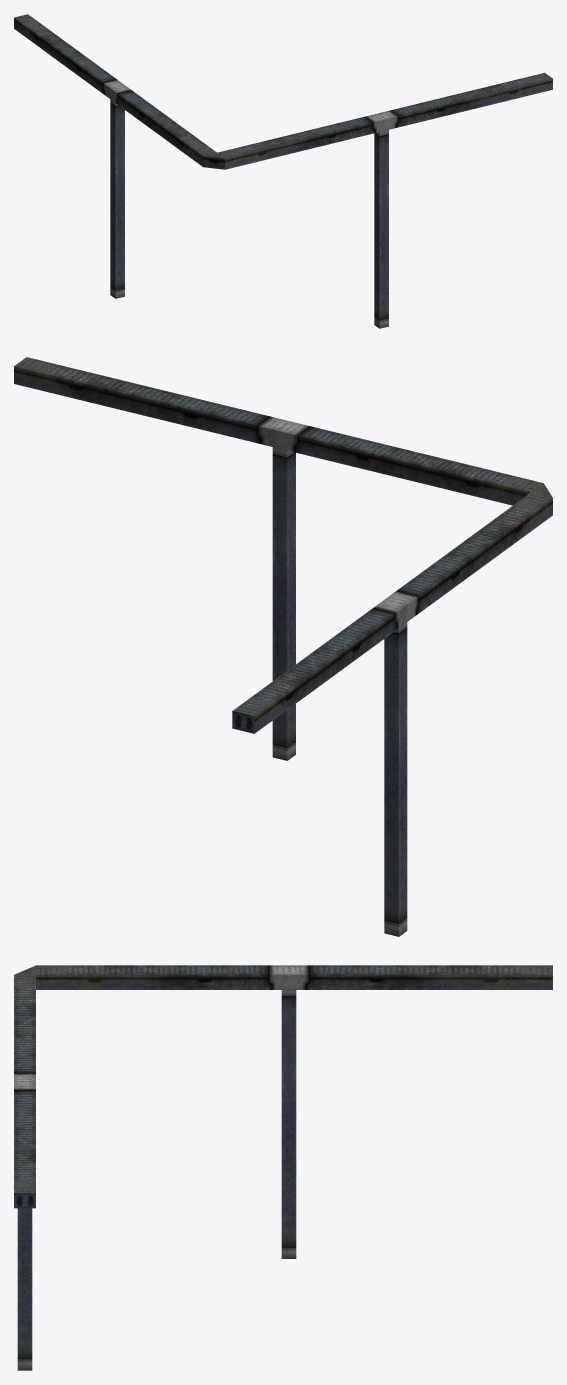
File: railing_convex.dae
The picture shows the model from 3 angles, top to bottom: view 1: azimuth 30°, elevation 25°; view 2: azimuth 150°, elevation 25°; view 3: azimuth 270°, elevation 25°; orthographic projection. The views are drawn at different scales.
Visible parts, largest first — view 1: railing_convex; view 2: railing_convex; view 3: railing_convex.
Boxes of the visible parts, x1,y1,x2,y2 form: railing_convex: (14, 14, 552, 328); railing_convex: (14, 357, 552, 936); railing_convex: (14, 965, 552, 1370).
Size of the model in its own units: 2.04 by 1.19 by 2.04.
